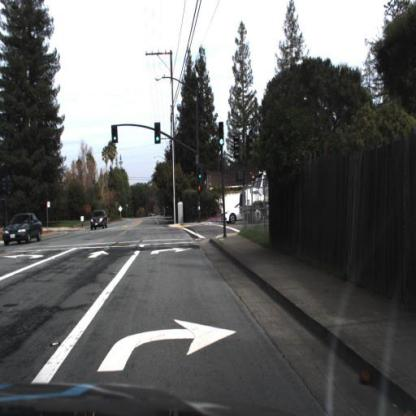car: (4, 213, 45, 247), (225, 203, 242, 225), (92, 211, 108, 231)
trafficLight-Green: (218, 117, 227, 152), (154, 122, 163, 147), (113, 123, 121, 146), (198, 161, 203, 185)
truck: (240, 176, 271, 225)
